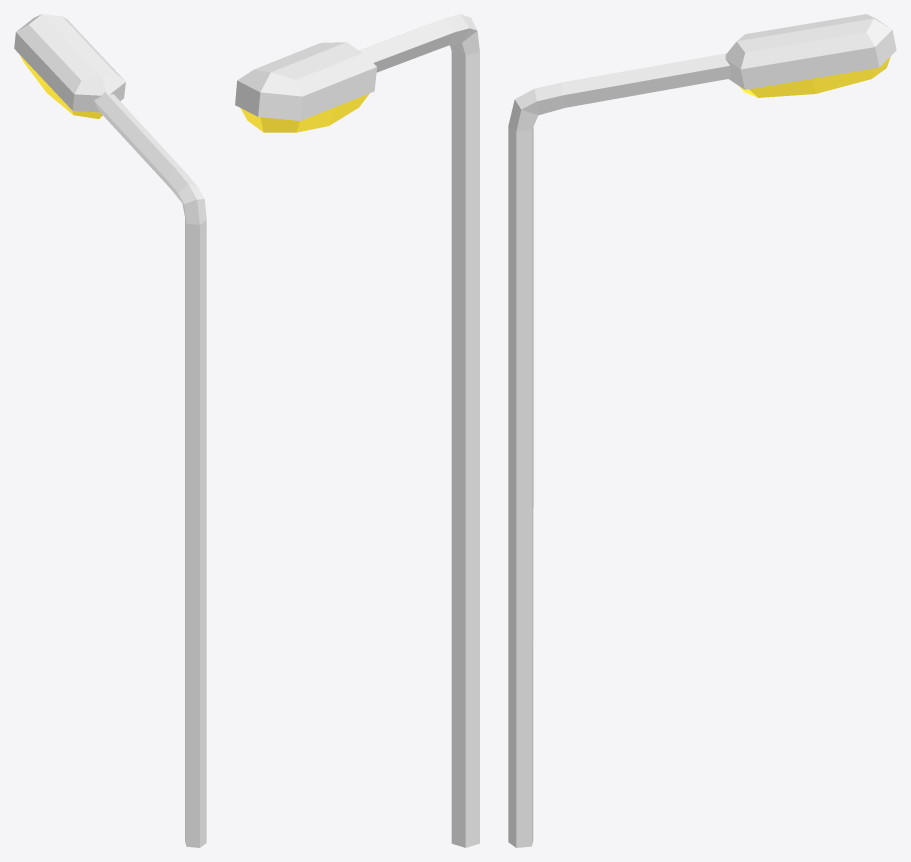
Rendered from stolb.003.glb.
3 views of the same model, side by side, from view 1: azimuth 30°, elevation 25°; view 2: azimuth 150°, elevation 25°; view 3: azimuth 270°, elevation 25° (orthographic). The views are drawn at different scales.
Parts seen in each view (by area): view 1: stolb.003(Clone); view 2: stolb.003(Clone); view 3: stolb.003(Clone).
Part boxes in pixels (box(x1,y1,x2,y2)): stolb.003(Clone): box(14, 14, 206, 847); stolb.003(Clone): box(235, 14, 479, 847); stolb.003(Clone): box(508, 14, 896, 847).
Bounding box in the file's own units: 0.3904 × 5.18 × 2.21.
Materials: 1 (1 with a texture image).
